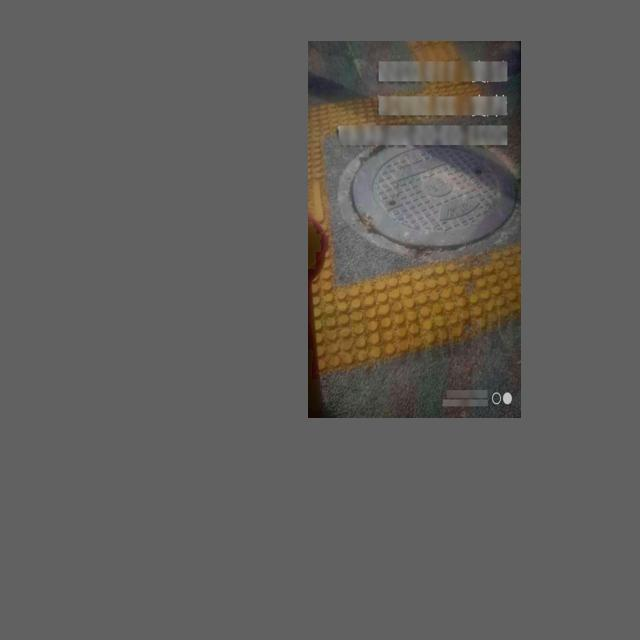good: (339, 114, 513, 259)
